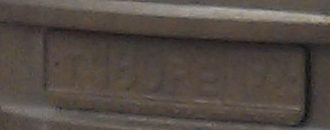character: (114, 39, 142, 98), (142, 40, 166, 98), (271, 48, 301, 91), (90, 37, 112, 94), (167, 57, 194, 98), (193, 59, 219, 101), (246, 46, 270, 88), (66, 47, 86, 92), (226, 46, 244, 84)
